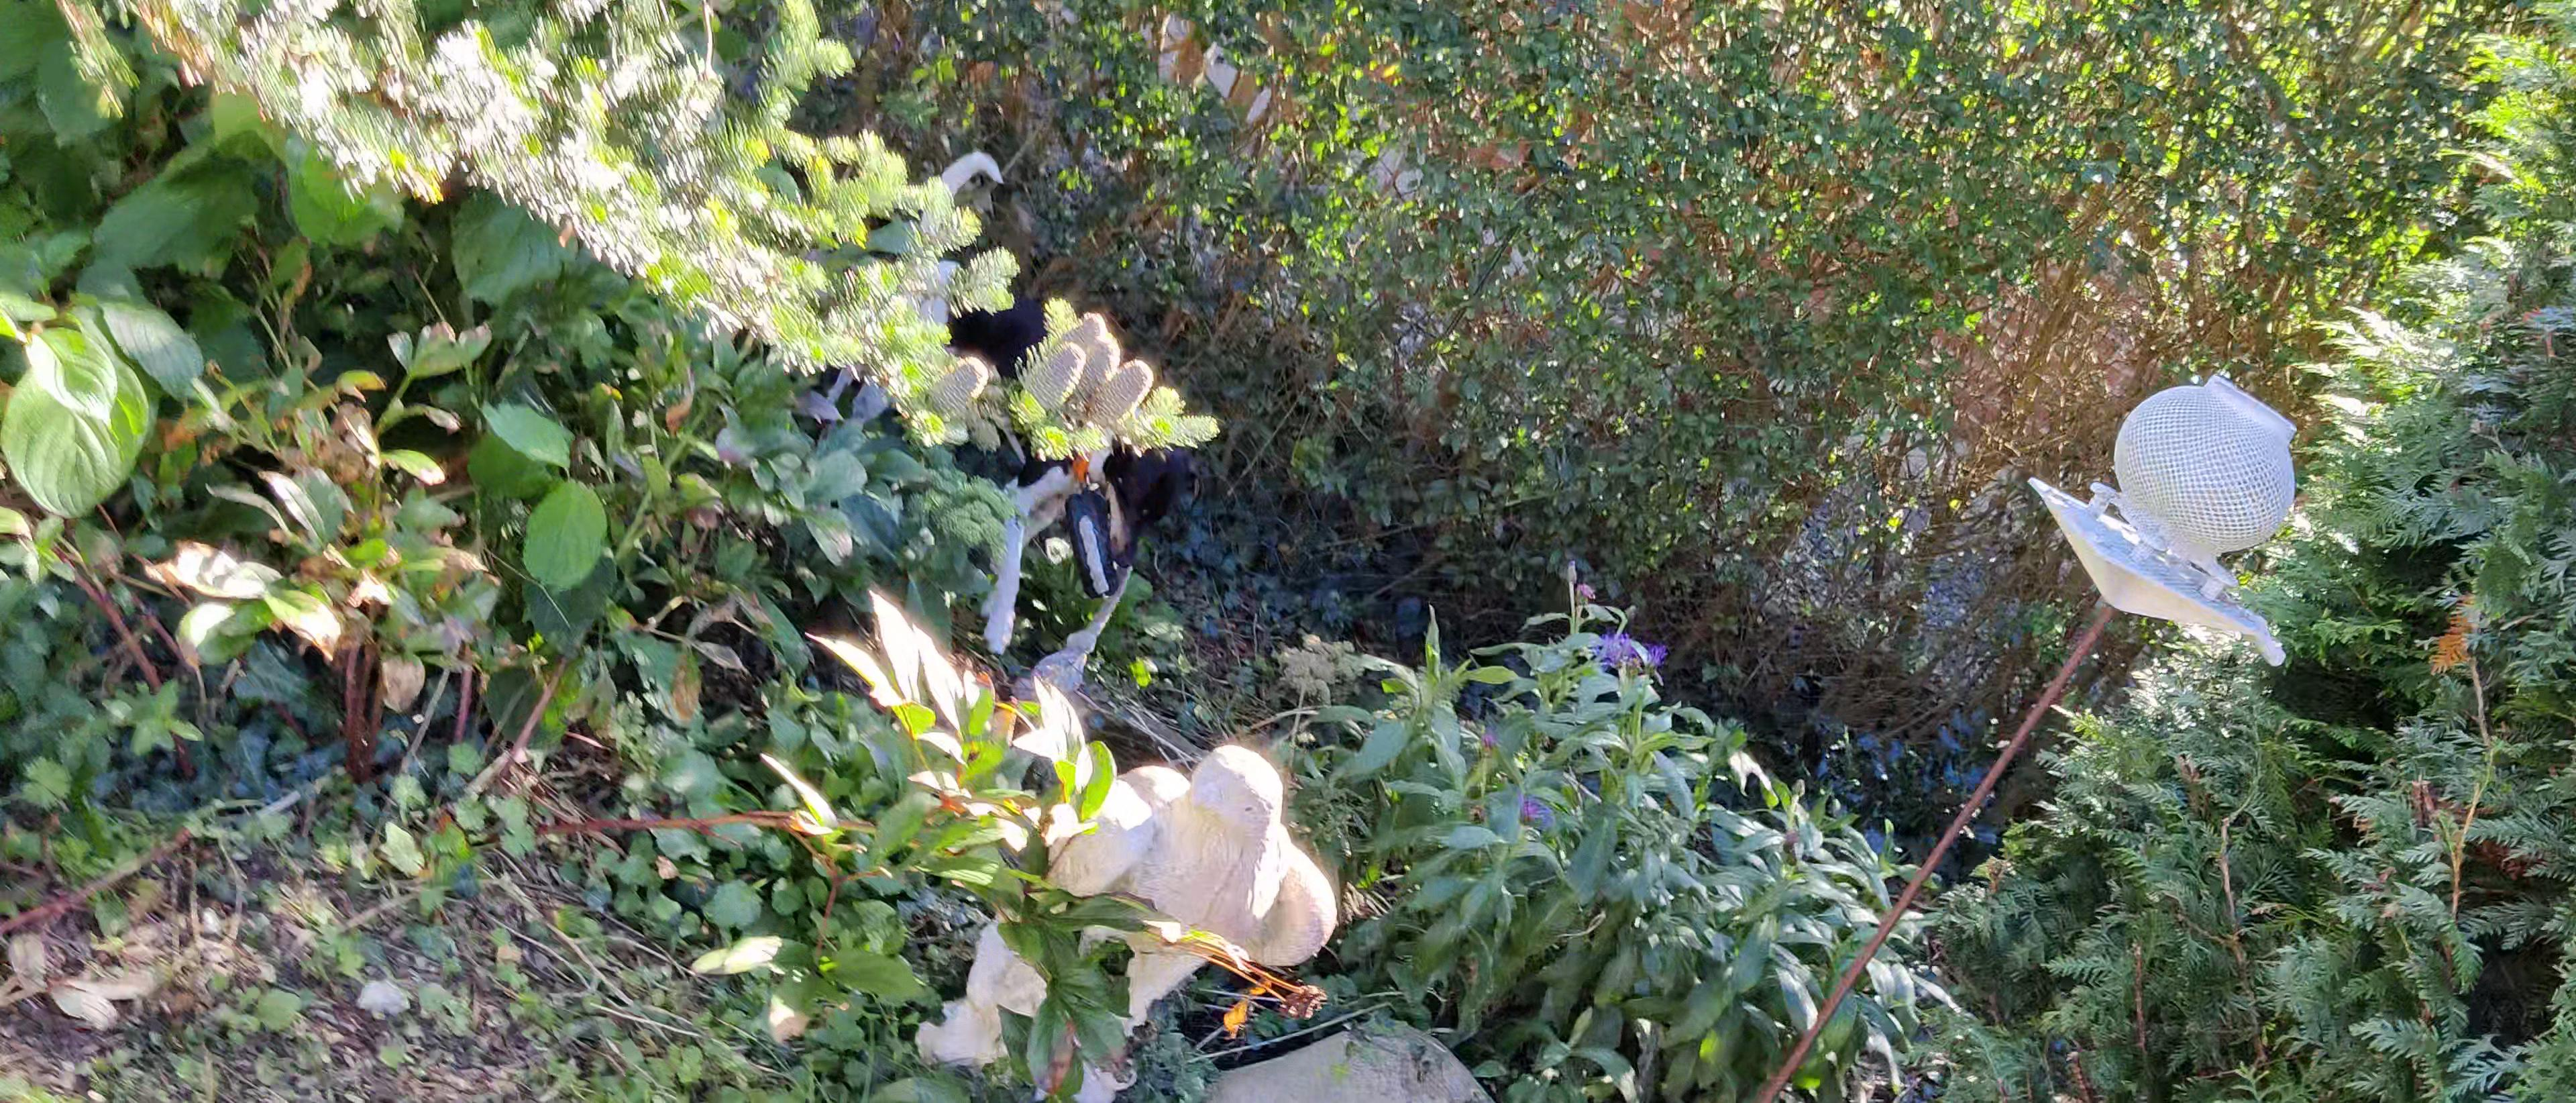Dog: (828, 146, 1198, 659)
